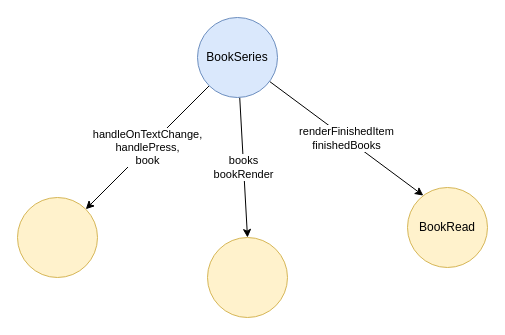
This 505x335 diagram has some shape labels left out. Each missing label, with the centre of its shape:
"BookAdd" belongs at point 57,237.
"BookList" belongs at point 247,277.
